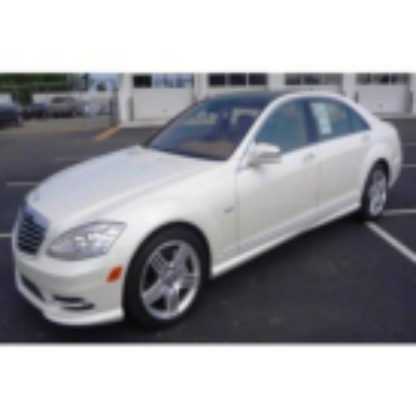Vehicle: (13, 90, 401, 327)
